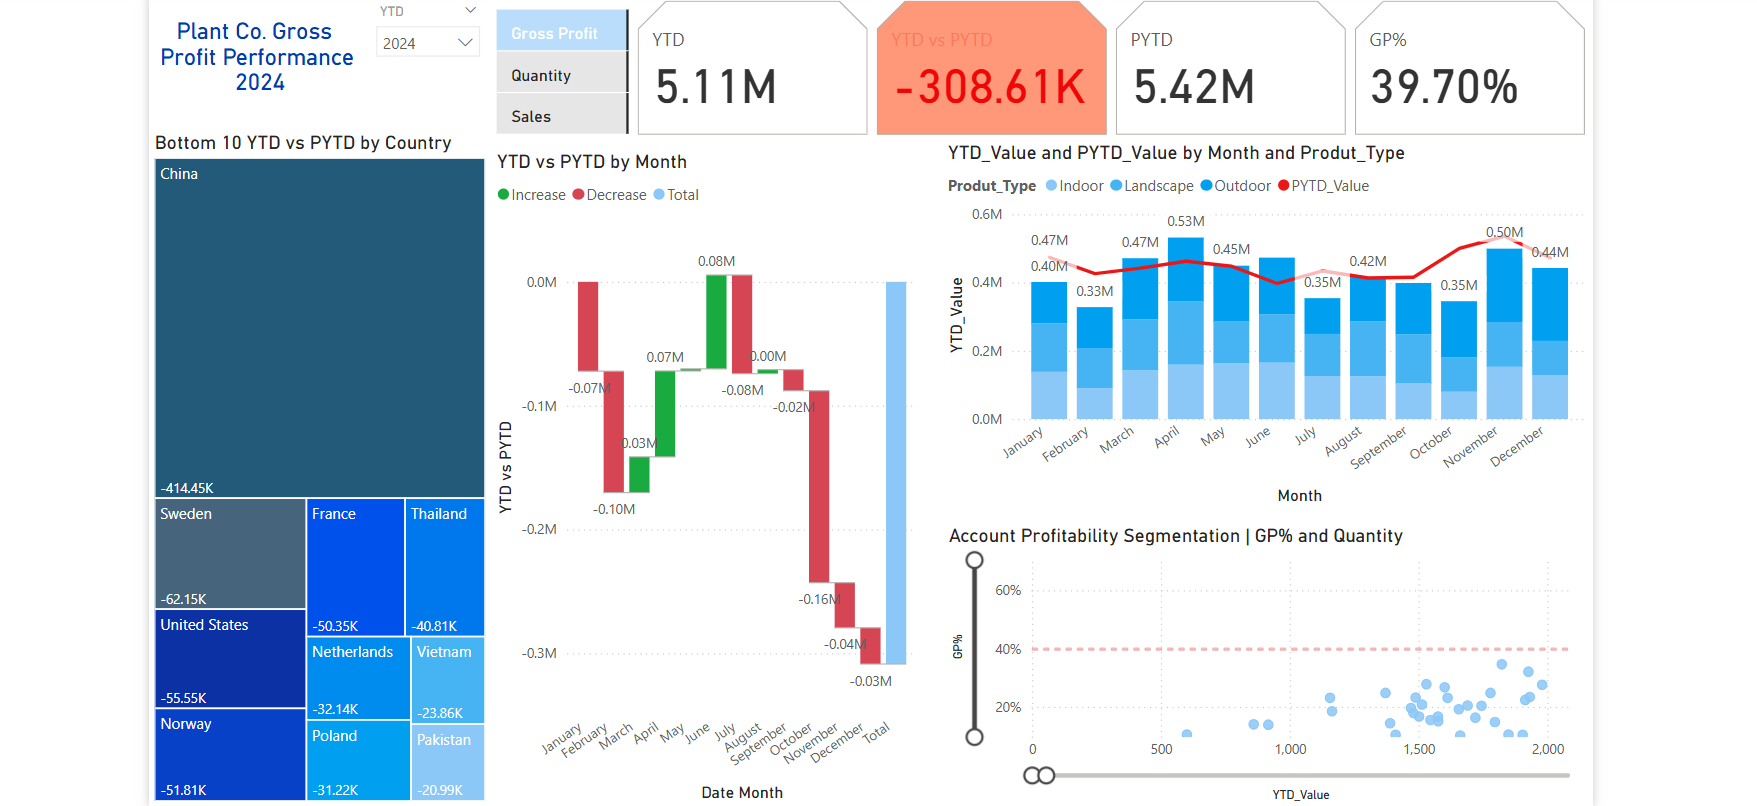

What the dashboard file says about the page in this screenshot:
{"tool":"powerbi","page":{"name":"Page 1","canvas":[1280,720],"ordinal":0},"visuals":[{"type":"cardVisual","fields":{"Data":["_Measures.S_YTD","_Measures.YTD vs PYTD","_Measures.S_PYTD","_Measures.GP%"]},"box":[427.9,0,852.3,129.1],"z":0},{"type":"advancedSlicerVisual","fields":{"Values":["Slicer Values.Values"]},"box":[303.5,8.1,127.9,120.9],"z":1000},{"type":"slicer","fields":{"Values":["Dim_Date.Date.Variation.Date Hierarchy.Year"]},"box":[192.3,13.5,110.2,50.9],"z":2000},{"type":"treemap","title":"Bottom 10 YTD vs PYTD by Country","fields":{"Values":["_Measures.YTD vs PYTD"],"Group":["Dim_Account.Country"]},"box":[0,137.2,303.5,583],"z":3000},{"type":"waterfallChart","fields":{"Y":["_Measures.YTD vs PYTD"],"Category":["Dim_Date.Date.Variation.Date Hierarchy.Month","Dim_Account.Country","Dim_Product.Produt_Type","Dim_Product.Product_Name_id"]},"box":[303.5,137.2,382.6,582.6],"z":4000},{"type":"lineStackedColumnComboChart","fields":{"Y":["_Measures.S_YTD"],"Y2":["_Measures.S_PYTD"],"Category":["Dim_Date.Date.Variation.Date Hierarchy.Month"],"Series":["Dim_Product.Produt_Type"]},"box":[703.5,129.1,576.7,327.9],"z":5000},{"type":"scatterChart","title":"Account Profitability Segmentation | GP% and Quantity","fields":{"Y":["_Measures.GP%"],"X":["_Measures.S_YTD"],"Category":["Dim_Account.Account"]},"box":[704,469,576,251],"z":6000},{"type":"card","fields":{"Values":["_Measures._Report title"]},"box":[0,0,192.3,64.4],"z":7000}]}

Visuals, with their boxes on the page's 1280x720 design canvas (x1, y1, x2, y2). These are canvas units, not pixel positions in the 1757x806 screenshot, which may show the page scaled, cropped or inside an application window:
cardVisual - _Measures.S_YTD x _Measures.YTD vs PYTD: {"x1": 428, "y1": 0, "x2": 1280, "y2": 129}
advancedSlicerVisual - Slicer Values.Values: {"x1": 304, "y1": 8, "x2": 431, "y2": 129}
slicer - Dim_Date.Date.Variation.Date Hierarchy.Year: {"x1": 192, "y1": 14, "x2": 302, "y2": 64}
"Bottom 10 YTD vs PYTD by Country" treemap: {"x1": 0, "y1": 137, "x2": 304, "y2": 720}
waterfallChart - _Measures.YTD vs PYTD x Dim_Date.Date.Variation.Date Hierarchy.Month: {"x1": 304, "y1": 137, "x2": 686, "y2": 720}
lineStackedColumnComboChart - _Measures.S_YTD x _Measures.S_PYTD: {"x1": 704, "y1": 129, "x2": 1280, "y2": 457}
"Account Profitability Segmentation | GP% and Quantity" scatterChart: {"x1": 704, "y1": 469, "x2": 1280, "y2": 720}
card - _Measures._Report title: {"x1": 0, "y1": 0, "x2": 192, "y2": 64}
